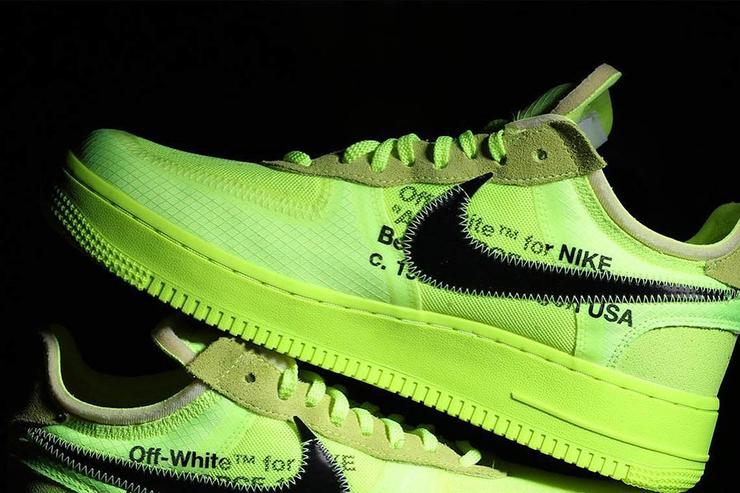Air Force One Volt: (33, 49, 738, 493)
